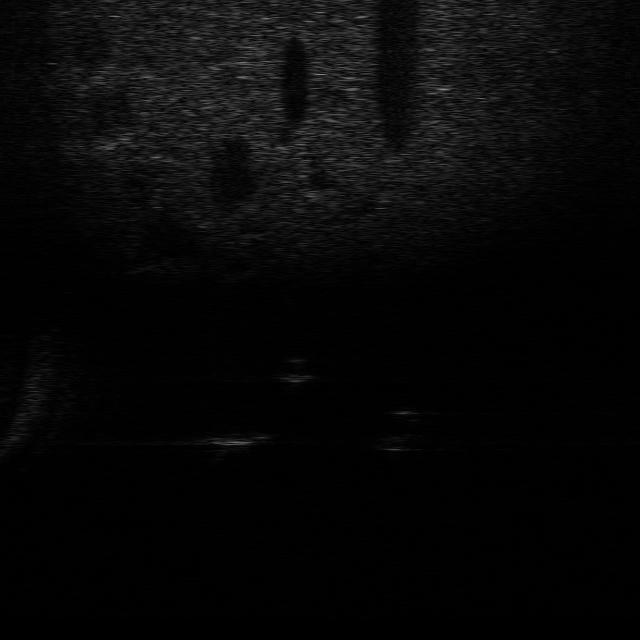ball: (270, 351, 322, 390)
square cage: (201, 425, 281, 461)
tyre: (370, 400, 429, 458)
